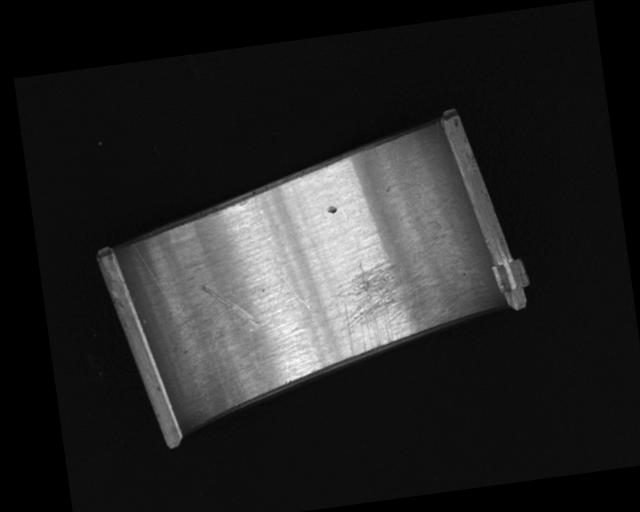bruise: (325, 205, 338, 215)
nick: (253, 187, 313, 315), (132, 235, 188, 332), (200, 278, 256, 330), (247, 320, 267, 381)
scratch: (326, 249, 461, 357)
